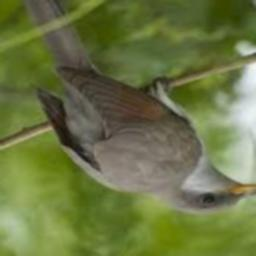Cuckoo: (17, 0, 256, 215)
